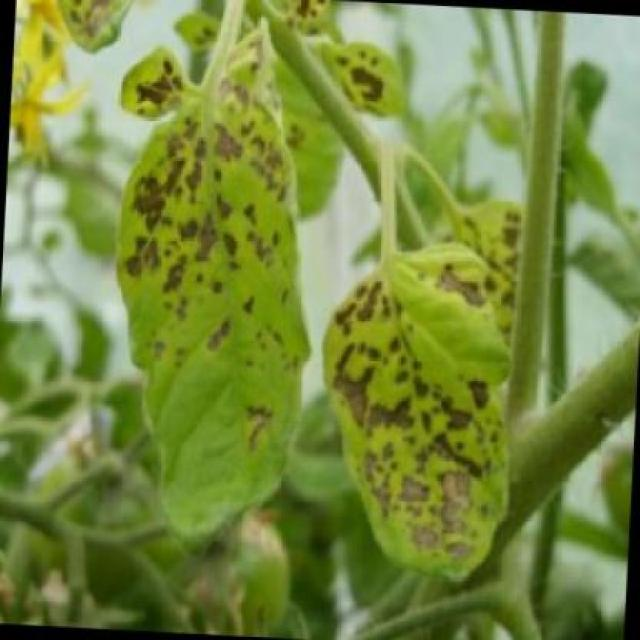Tomato leaf bacterial spot: (41, 40, 334, 569), (308, 233, 535, 602)
